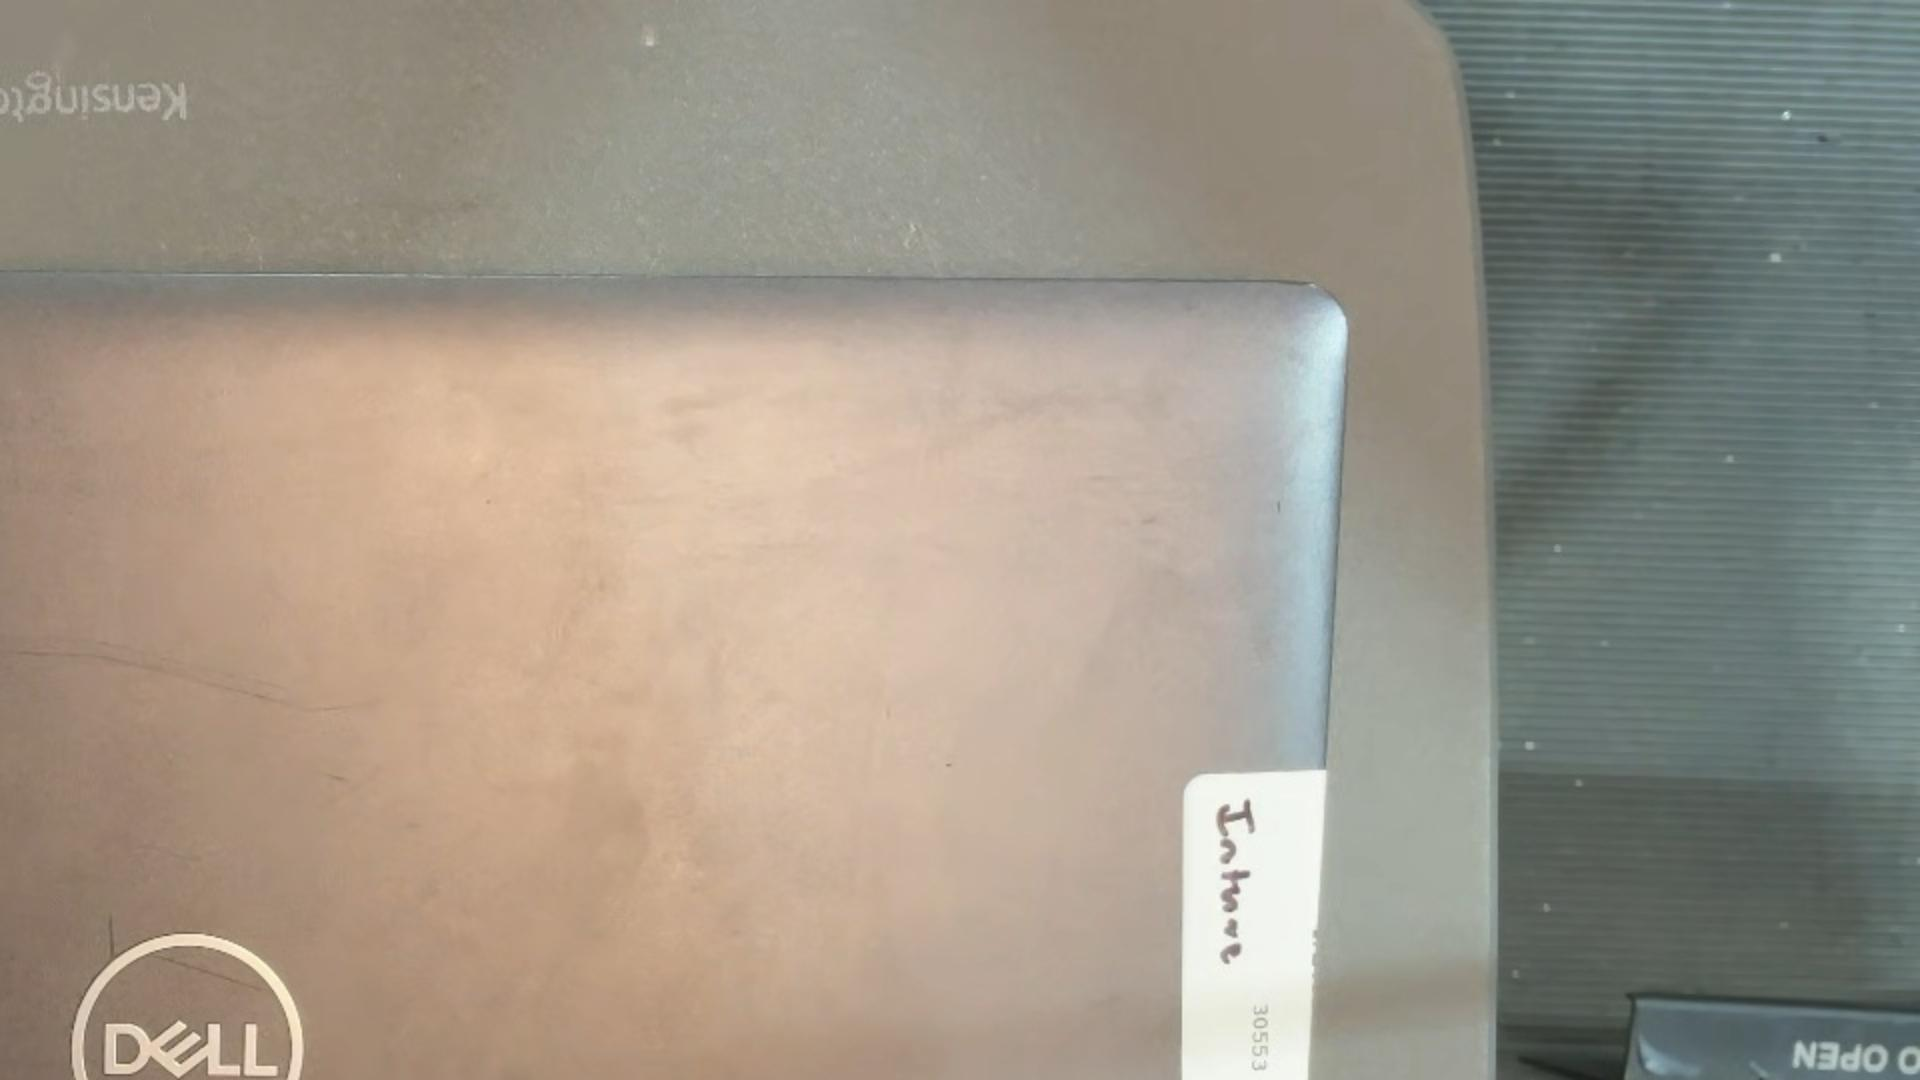scratches: (0, 644, 386, 713), (150, 952, 273, 996), (105, 909, 119, 960), (1275, 496, 1284, 517)
